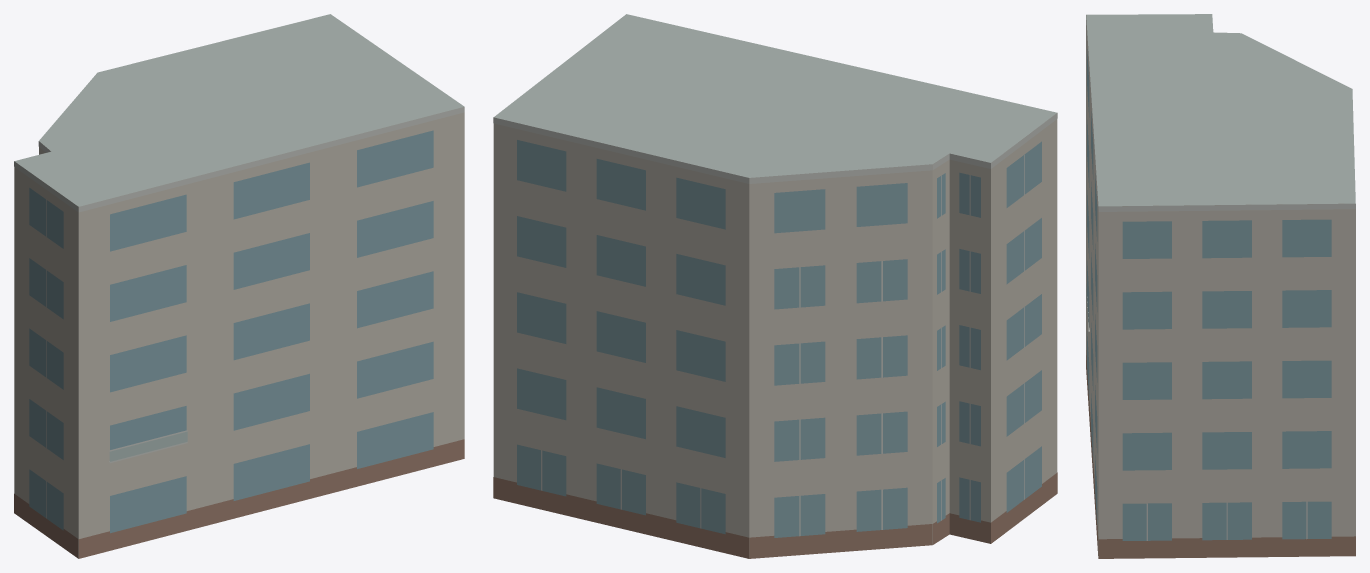
File: survey-upis-32749828.glb
3 views of the same model, side by side, from view 1: azimuth 30°, elevation 25°; view 2: azimuth 150°, elevation 25°; view 3: azimuth 270°, elevation 25° (orthographic). The views are drawn at different scales.
Parts seen in each view (by area): view 1: survey-upis-32749828.tmp; view 2: survey-upis-32749828.tmp; view 3: survey-upis-32749828.tmp.
Part boxes in pixels (left/top/right/bottom): survey-upis-32749828.tmp: left=14, top=14, right=464, bottom=558; survey-upis-32749828.tmp: left=493, top=14, right=1057, bottom=558; survey-upis-32749828.tmp: left=1086, top=14, right=1355, bottom=558.
Bounding box in the file's own units: 17.86 × 15.25 × 10.59.
